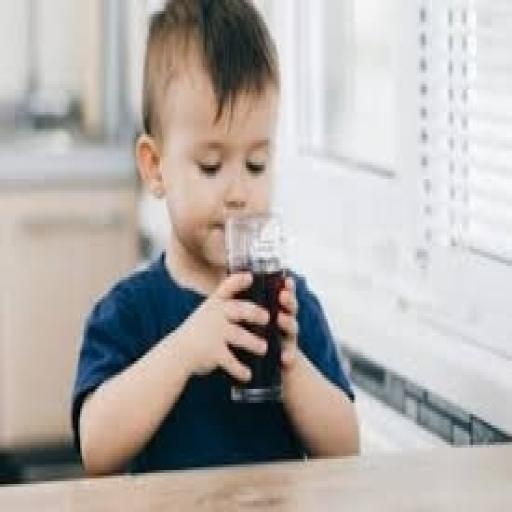drinking: (222, 210, 288, 403)
